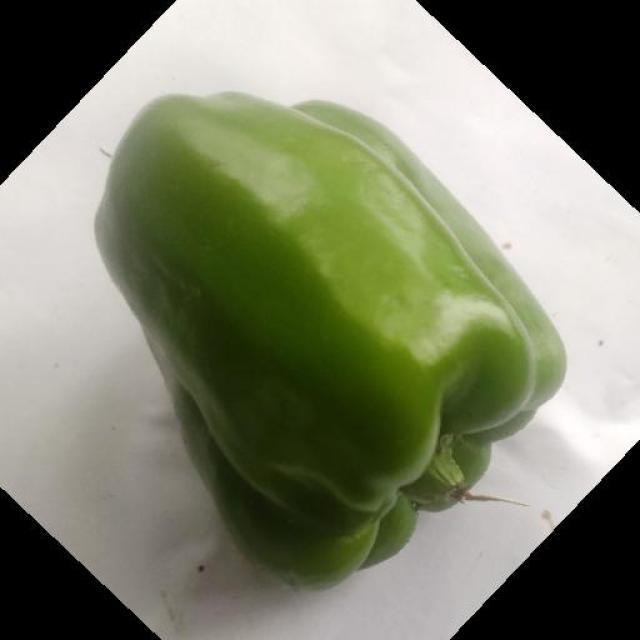Fresh_Capsicum: (76, 104, 510, 553)
